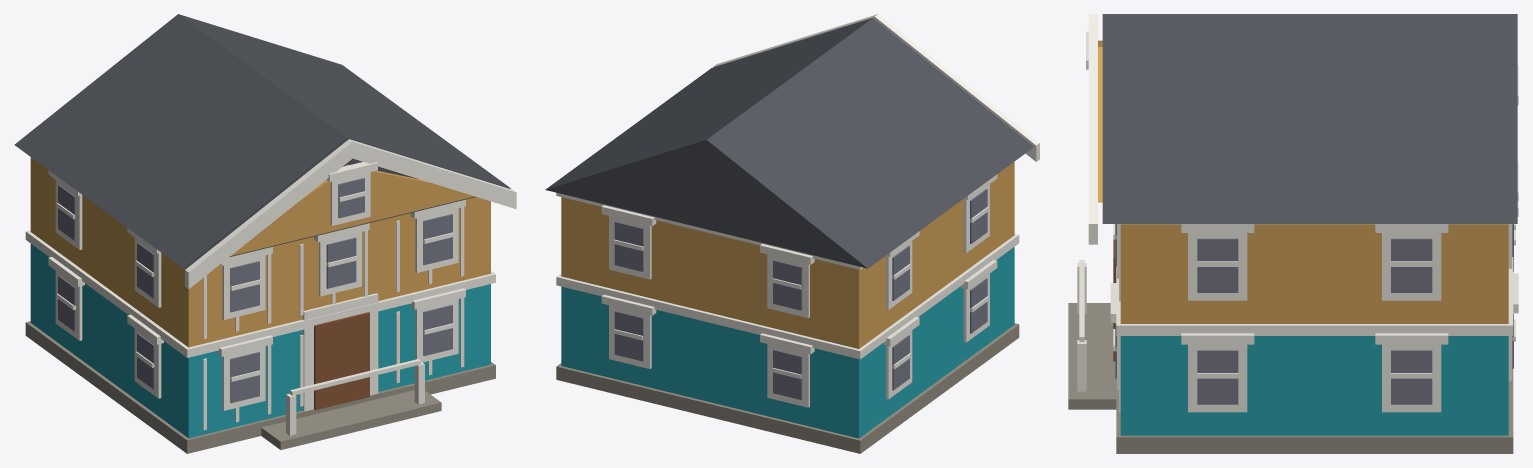
The model's file is house-1x1-2f-valparaiso-a.glb.
3 views of the same model, side by side, from view 1: azimuth 30°, elevation 25°; view 2: azimuth 150°, elevation 25°; view 3: azimuth 270°, elevation 25° (orthographic). The views are drawn at different scales.
Parts seen in each view (by area): view 1: house-1x1-2f-valparaiso-a; view 2: house-1x1-2f-valparaiso-a; view 3: house-1x1-2f-valparaiso-a.
Boxes of the visible parts, bbox=[...] form: house-1x1-2f-valparaiso-a: bbox=[14, 14, 516, 453]; house-1x1-2f-valparaiso-a: bbox=[545, 14, 1039, 453]; house-1x1-2f-valparaiso-a: bbox=[1068, 14, 1518, 453].
Size of the model in its own units: 1.02 by 0.84 by 0.987.
1 material, 1 textured.
